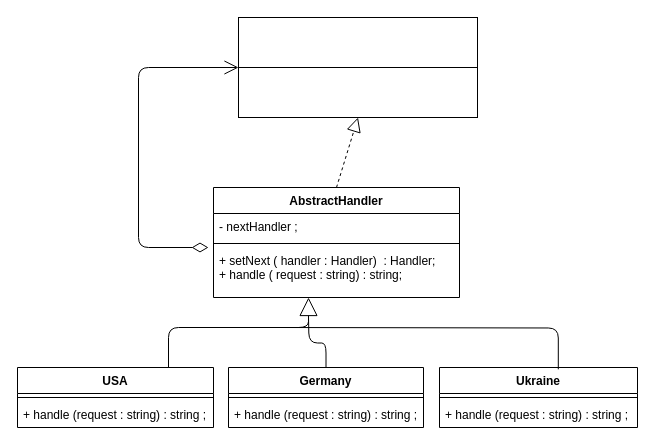
Image size: 655x448. Some labels were removed from this diagram. Here are the shapes that lost their labels. From the top down, the centre of each, then its label:
At (x=358, y=42): "«interface» Handler".
At (x=358, y=92): "setNext( handler: Handler) : Handler ; handle( request : string) : string ;".
